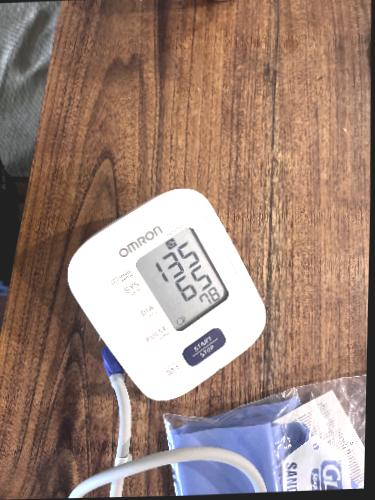bpm: (131, 224, 235, 334)
